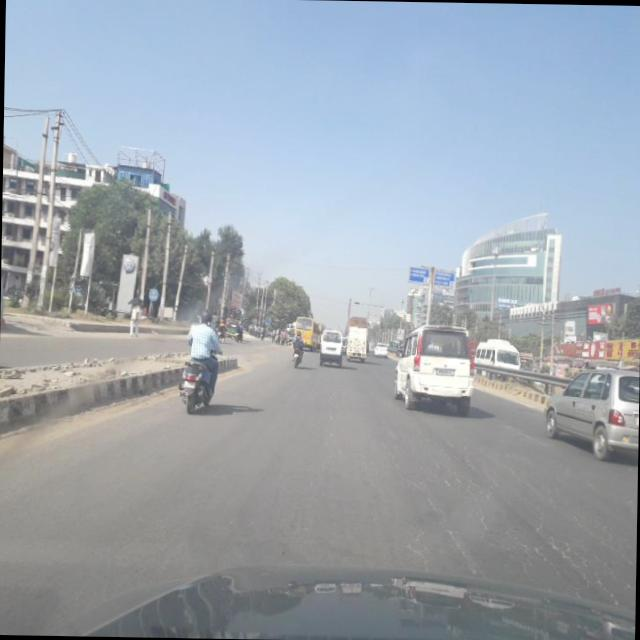crack: (82, 414, 620, 594)
